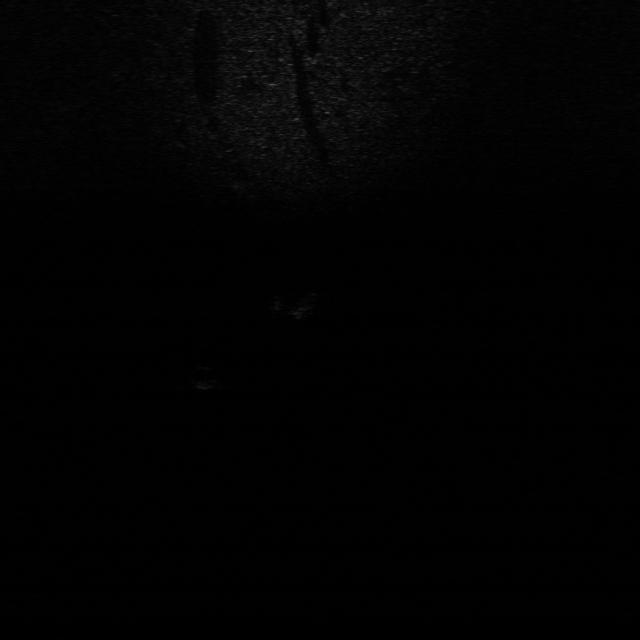ball: (190, 362, 224, 392)
human body: (274, 285, 324, 321)
